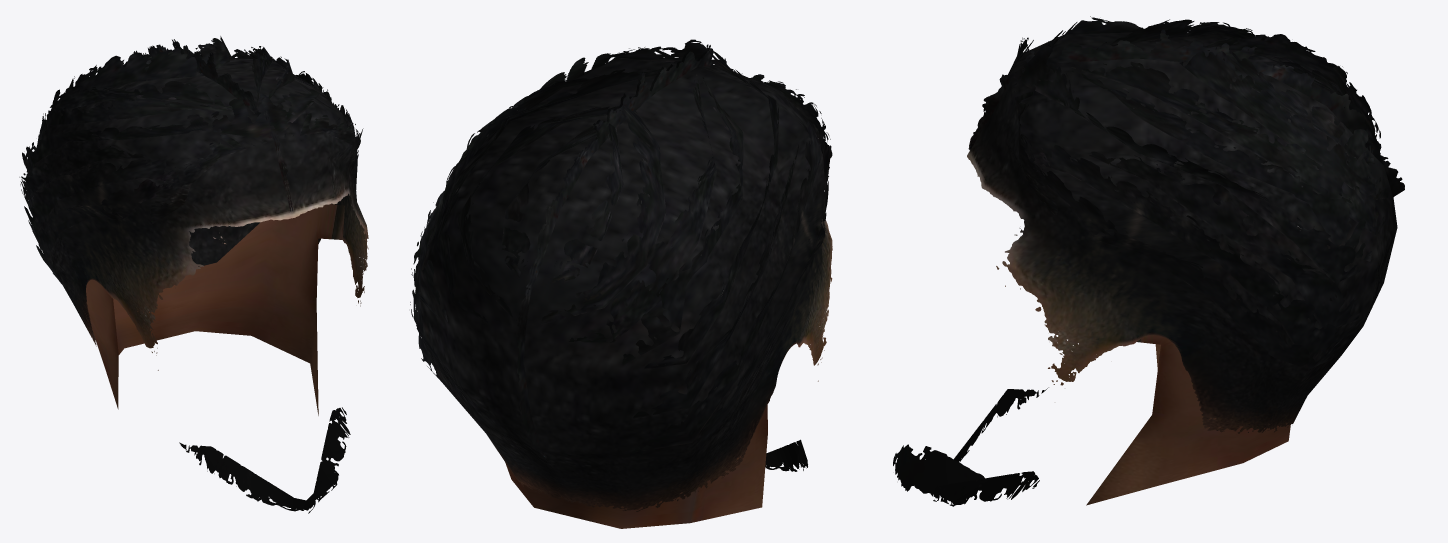
Rendered from eng-bellingham.glb.
3 views of the same model, side by side, from view 1: azimuth 30°, elevation 25°; view 2: azimuth 150°, elevation 25°; view 3: azimuth 270°, elevation 25° (orthographic). The views are drawn at different scales.
Parts seen in each view (by area): view 1: hair; view 2: hair; view 3: hair.
Part boxes in pixels (x1,y1,x2,y2): hair: [19, 36, 368, 513]; hair: [410, 39, 832, 528]; hair: [893, 16, 1404, 506].
Size of the model in its own units: 0.1727 by 0.2405 by 0.2478.
2 materials, 2 textured.
